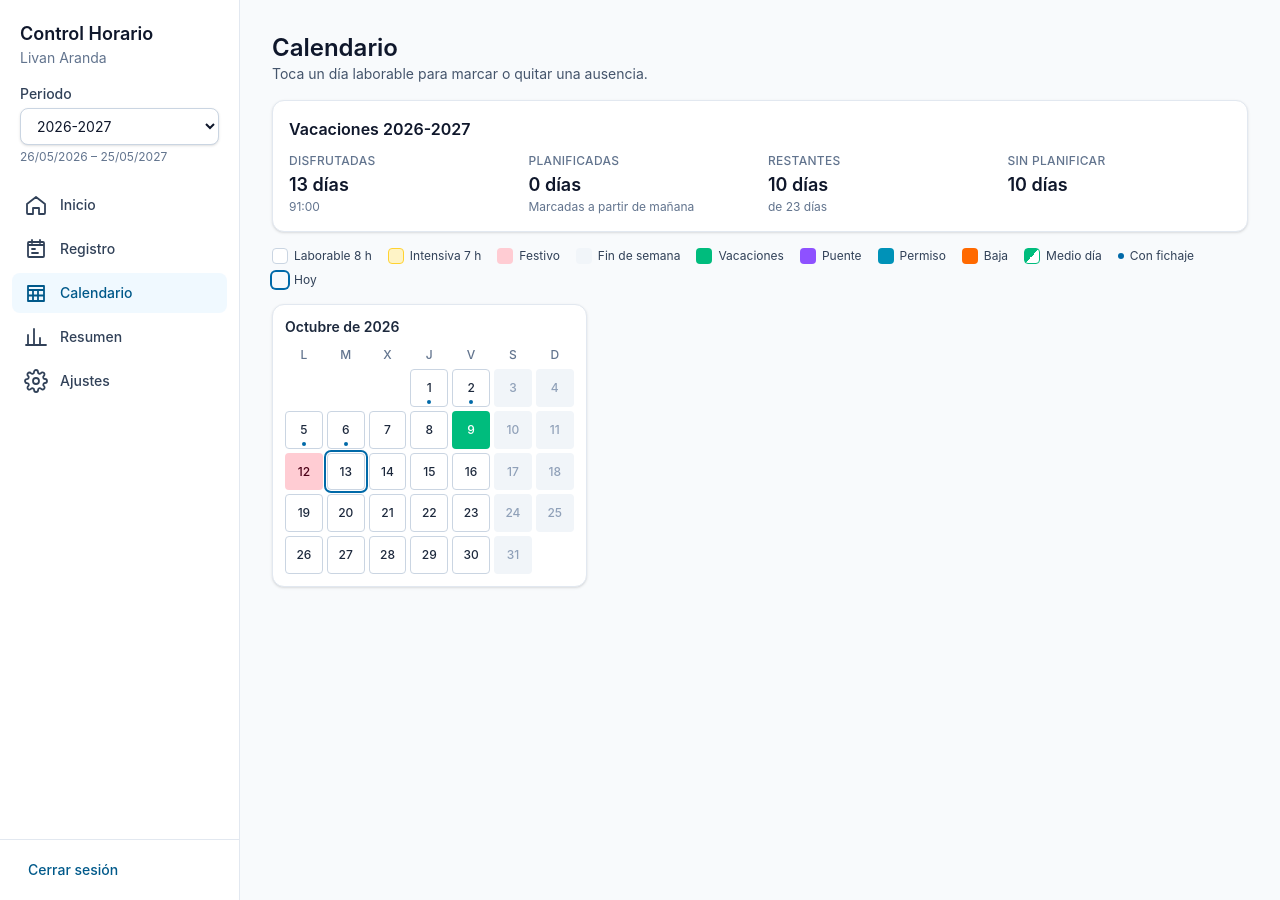
Test: Calendario › colorea los días por tipo y permite marcar una ausencia
This screenshot has width=1280, height=900.
Expected: the button "1" is shown, [410,369,448,407]
Expected: the text "13 días" is shown, [289,174,349,195]
Click the button named "Martes, 13 de octubre".
click(346, 472)  # box [327,453,365,490]
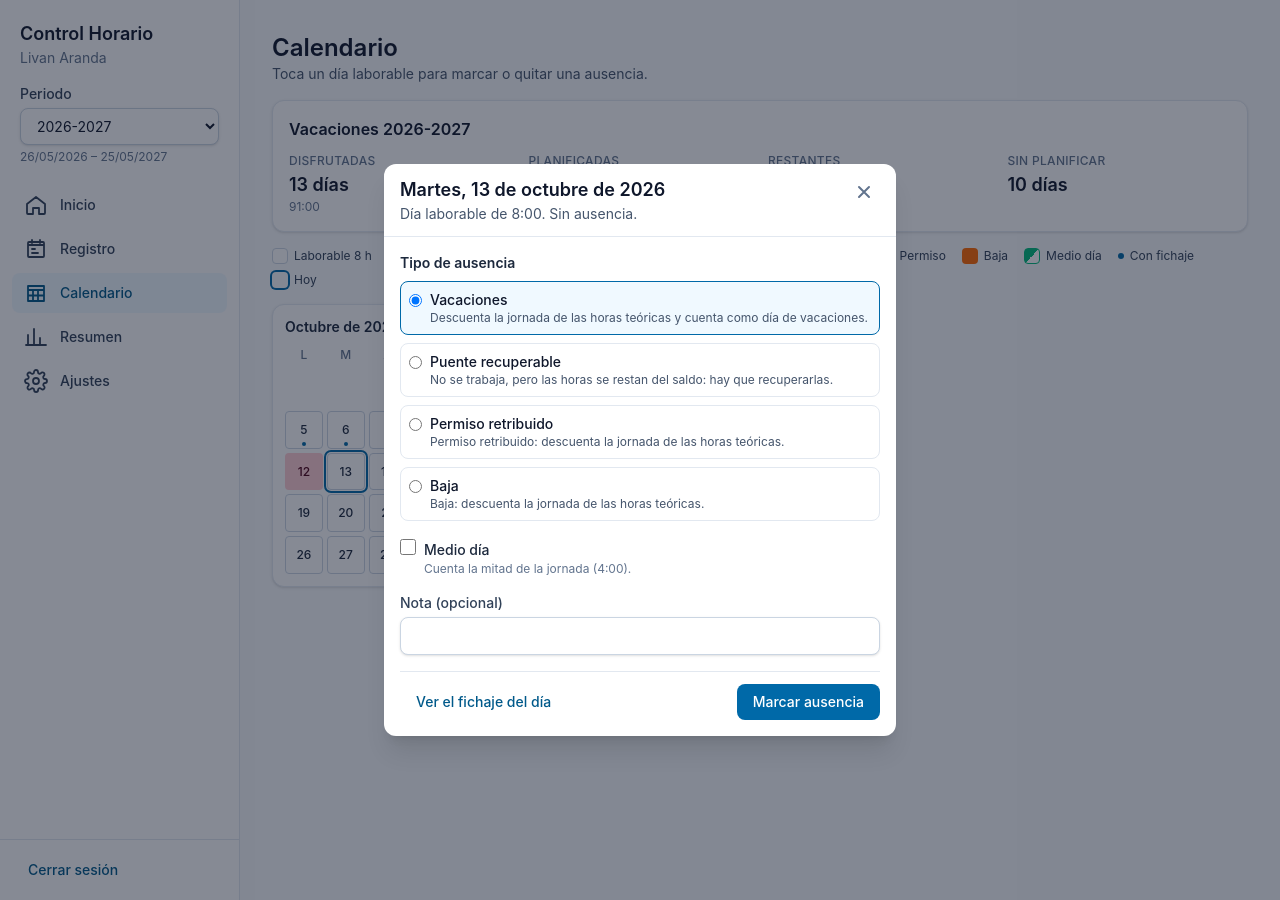
Click the radio button labelled "Puente recuperable".
click(416, 362)  # box [409,356,422,369]
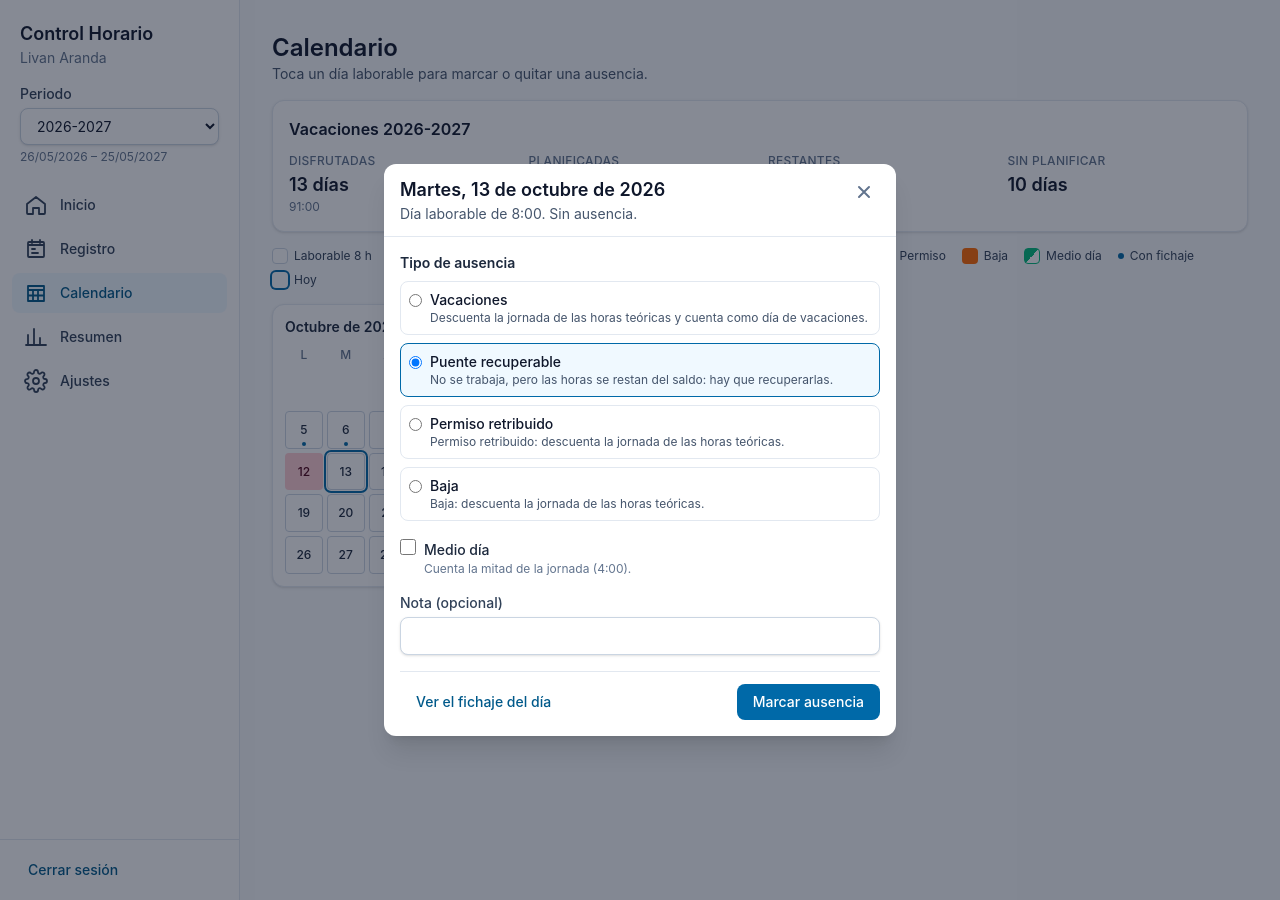
Click the checkbox labelled "Medio día".
click(408, 547)  # box [400,539,416,555]
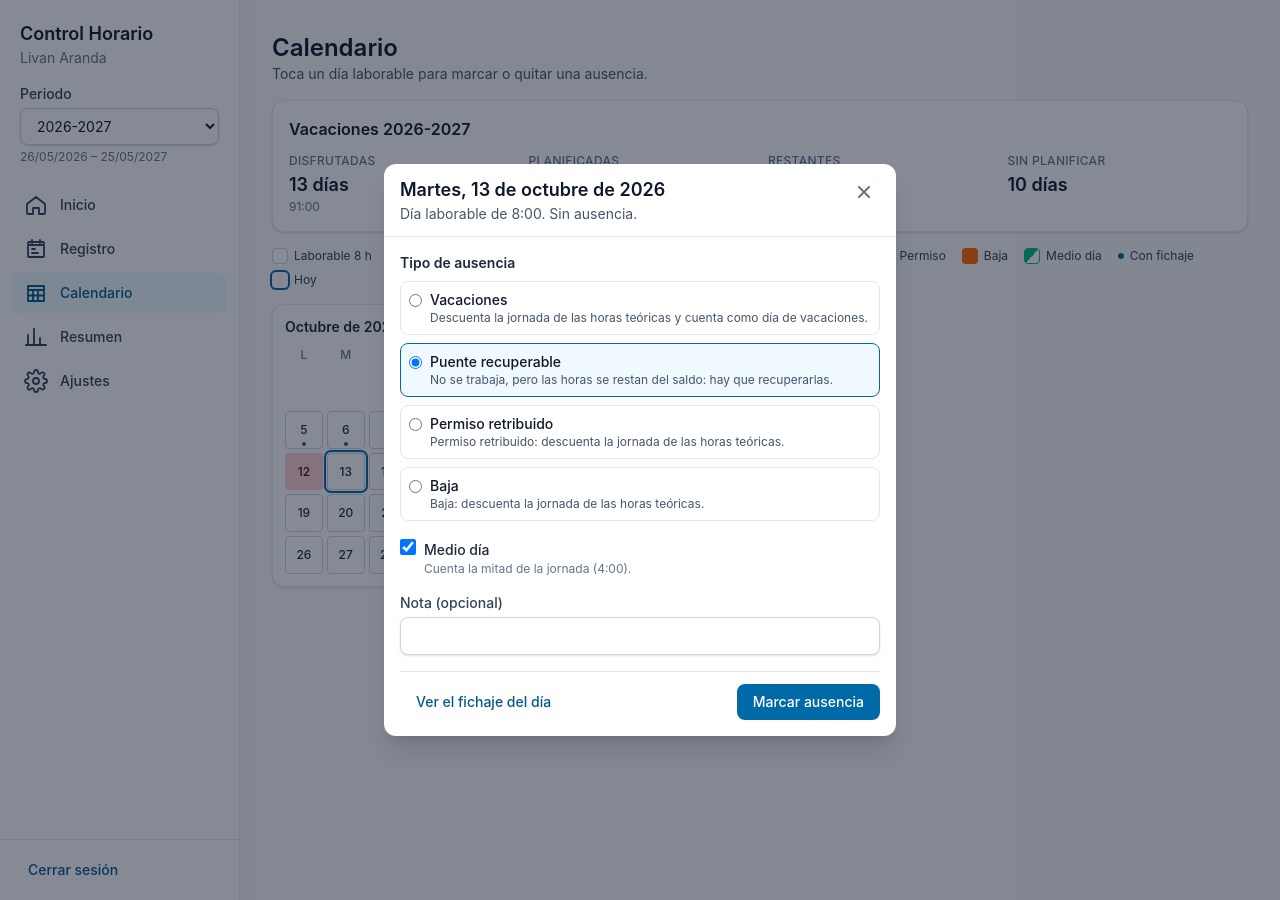
Click the button "Marcar ausencia".
click(808, 702)  # box [737,684,880,720]
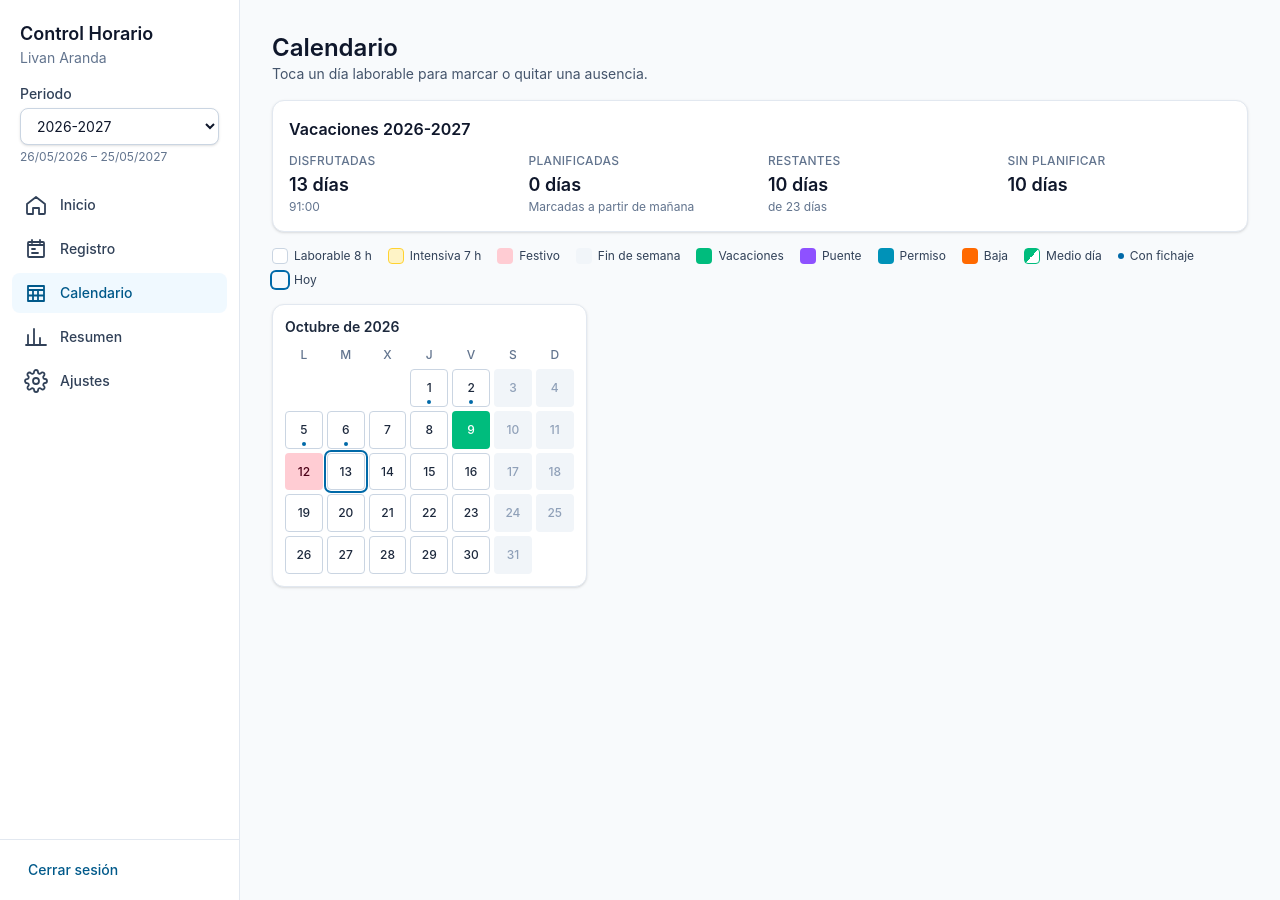
Result: the dialog is gone
